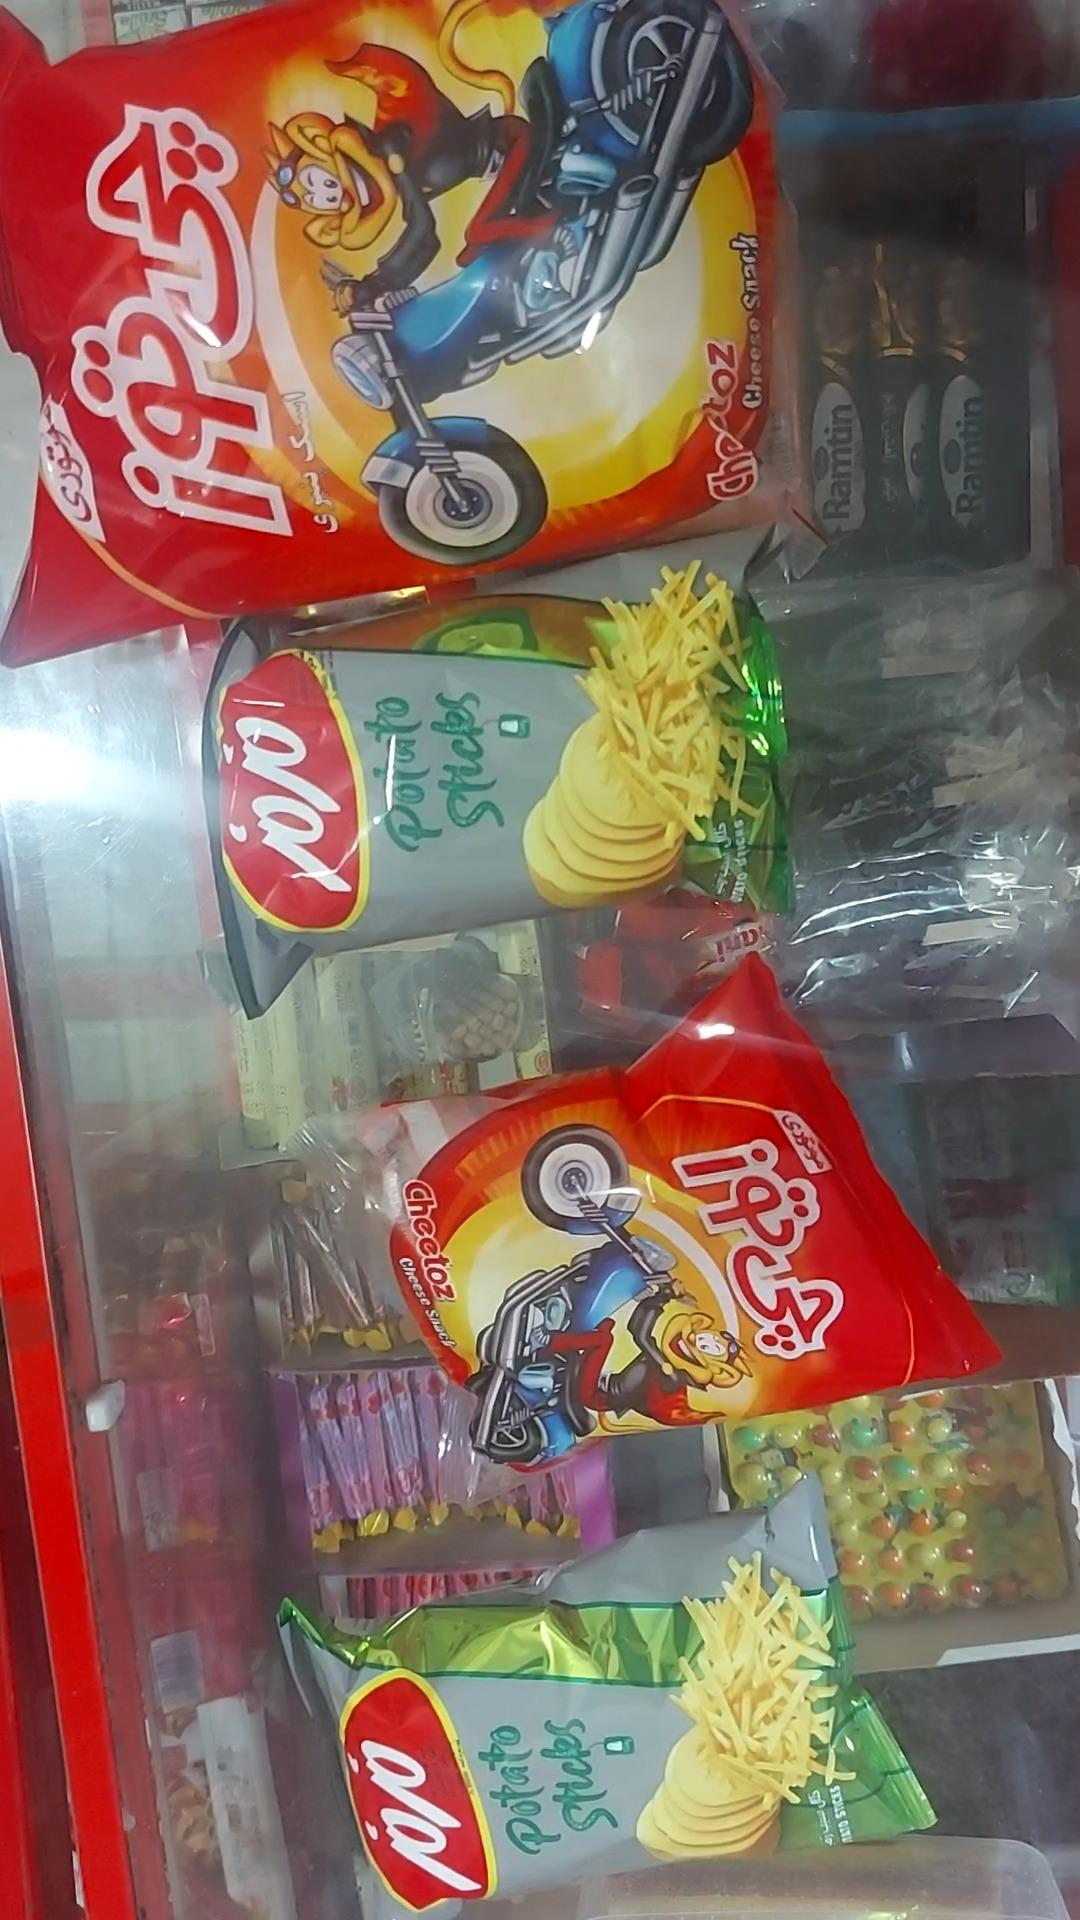Cheetoz snack 30g: (289, 957, 998, 1513)
Cheetoz snack 90g: (0, 0, 818, 670)
Maz Maz potato sticks: (276, 1468, 934, 1919), (203, 562, 787, 1019)
